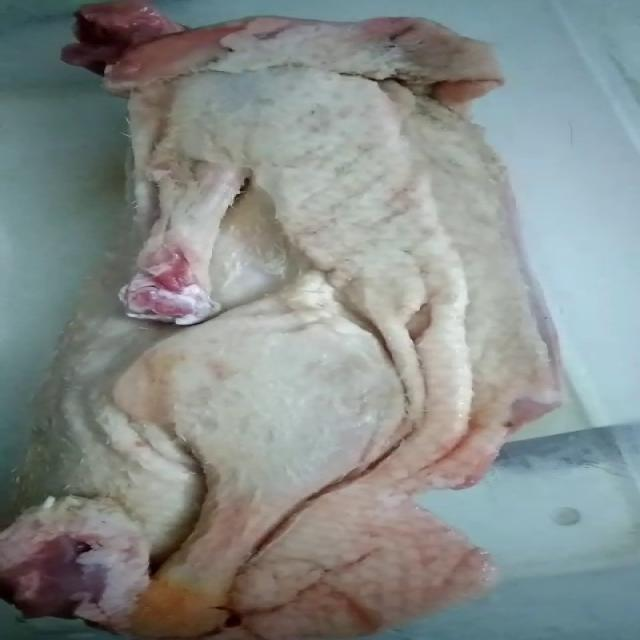chicken: (1, 1, 566, 638)
